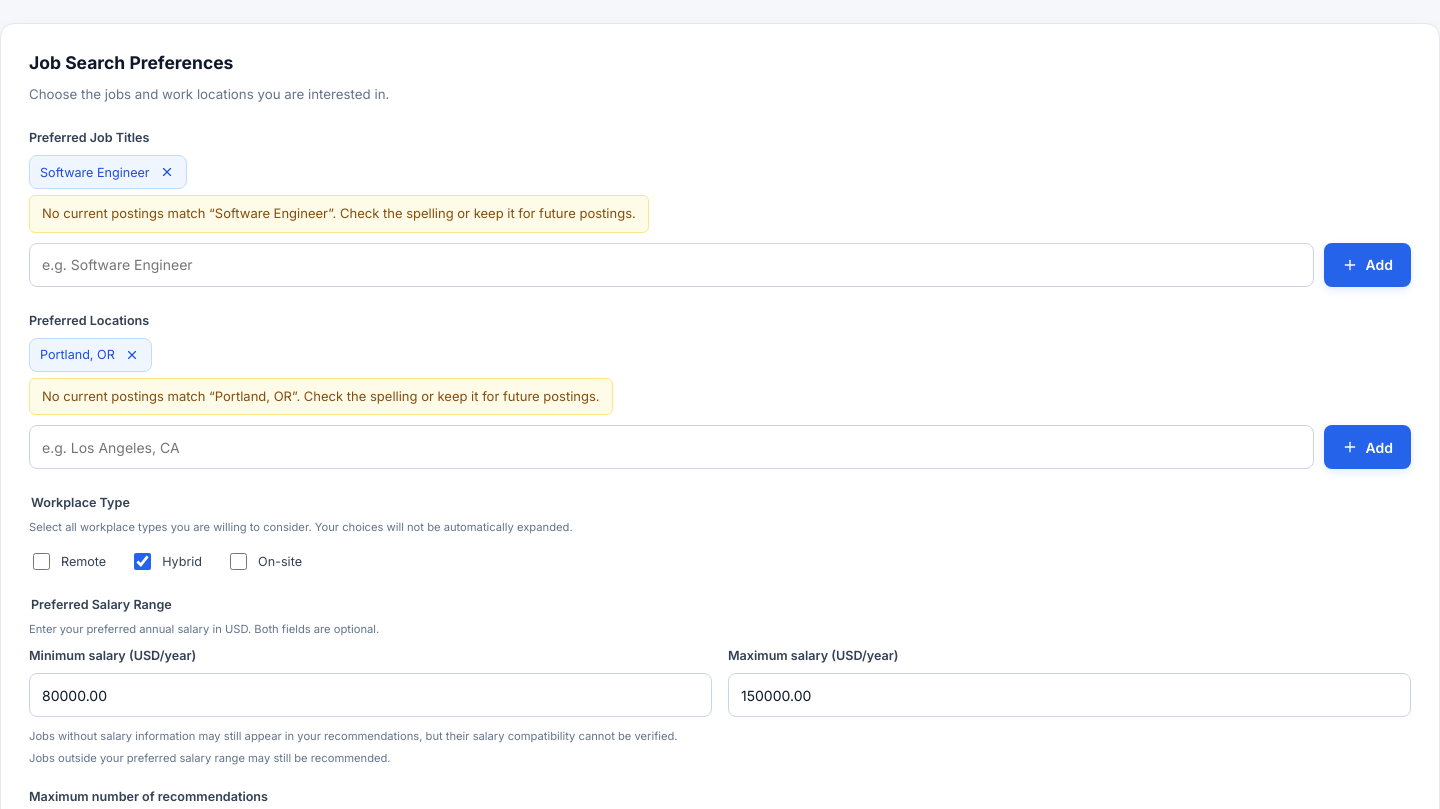
Test: SearchPreferencesForm (JH-021) › saves updated preferences without resetting salary or result count
Check: the text "Software Engineer" is shown, box [29,155,187,189]
In the field labelled "Preferred Job Titles": (671, 265) [29,243,1314,287], type "Security Engineer"
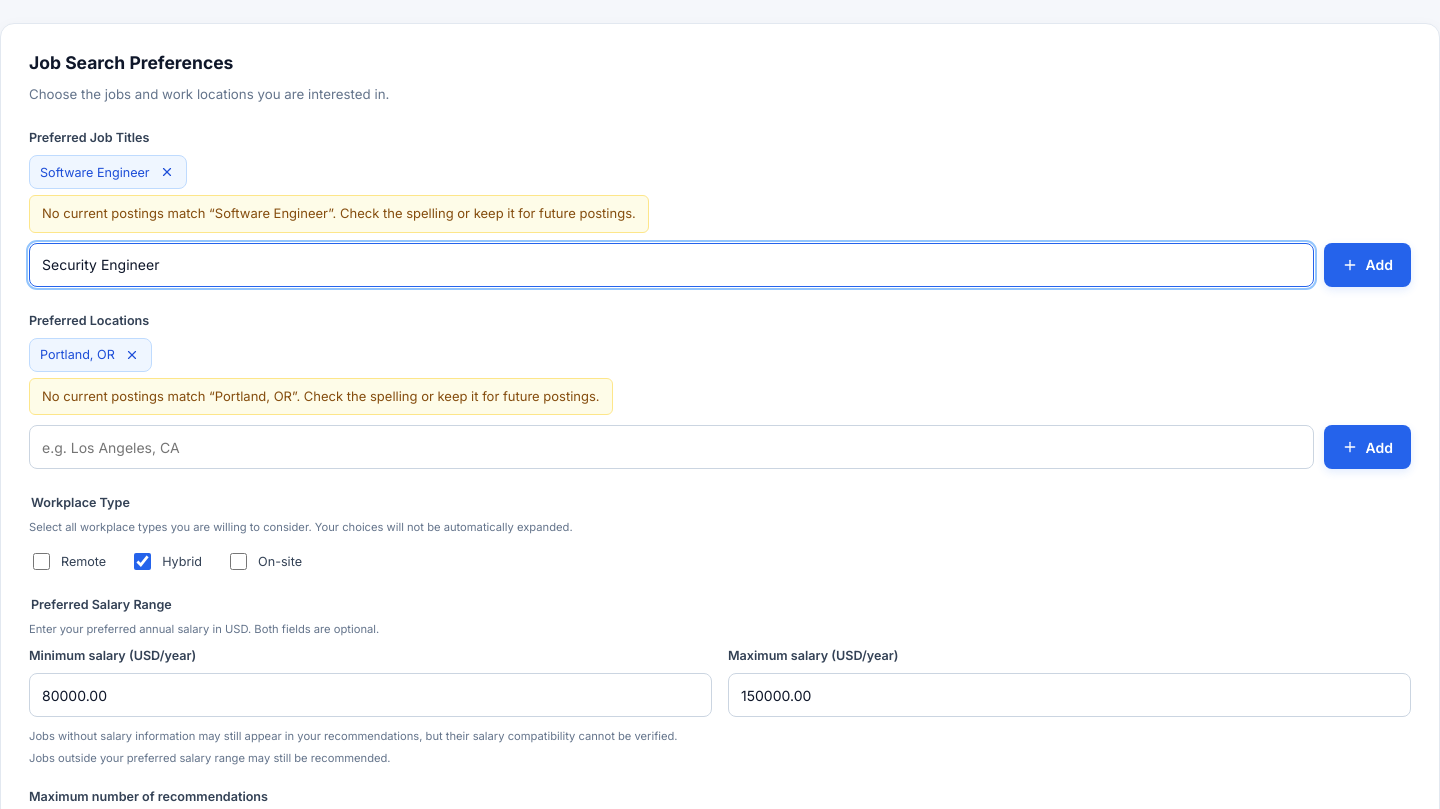
Click the 1st button "Add": (1367, 265) [1324,243,1411,287]
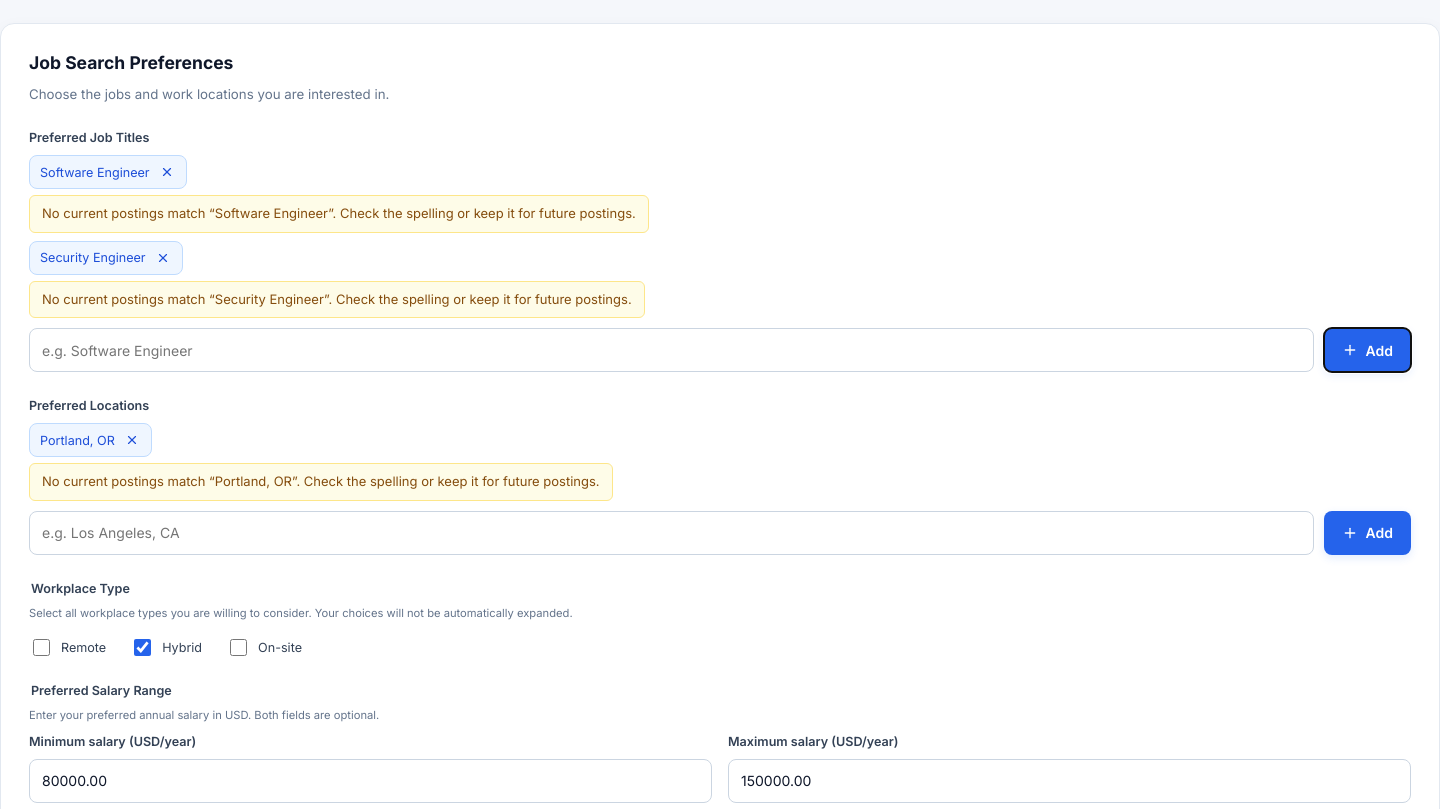
Click the checkbox labelled "Remote": (42, 647) [33,639,50,656]
(page scrolled)
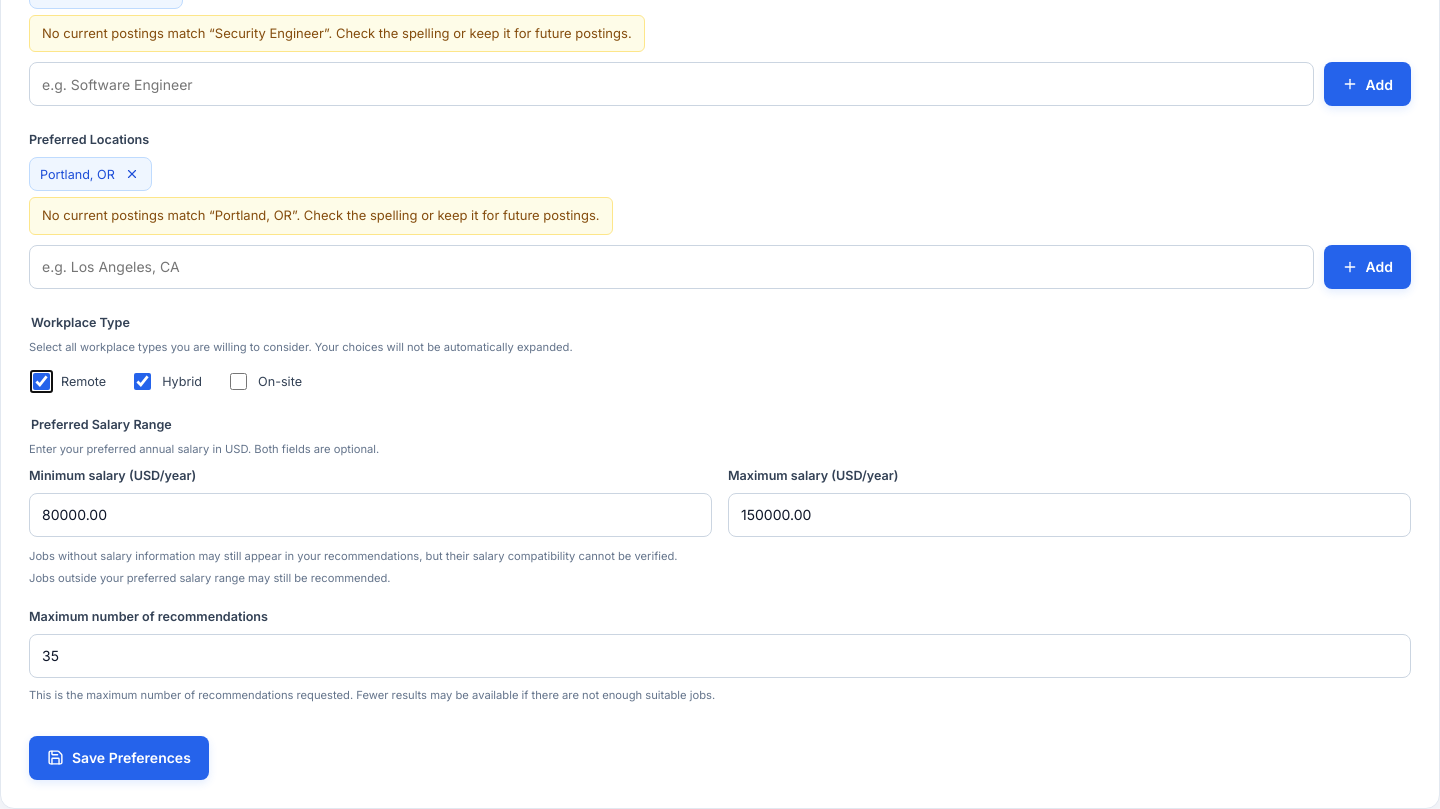
Click the button "Save Preferences": (119, 758) [29,736,209,780]
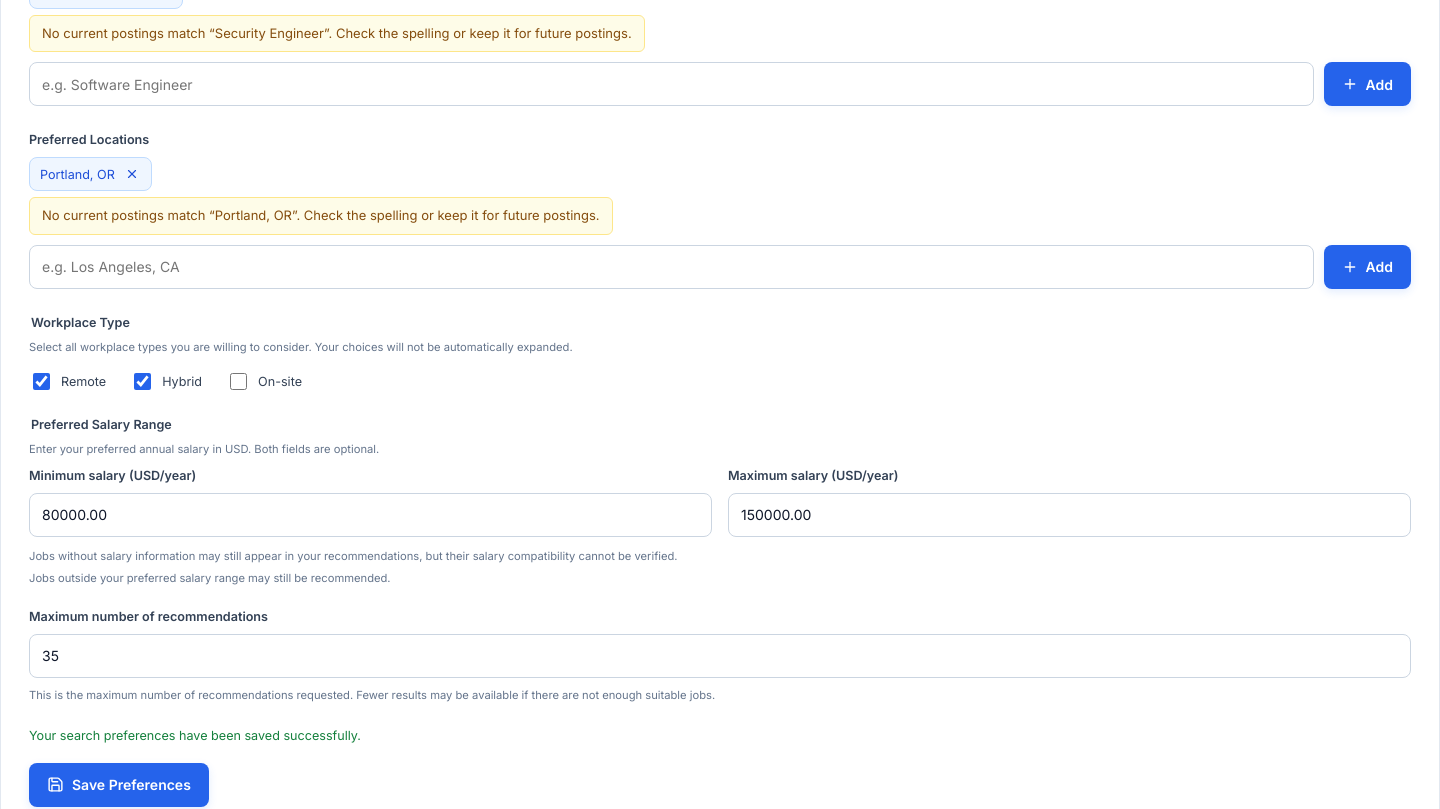
Check: the text "Your search preferences have been saved successfully." is shown, box [29,728,361,743]
